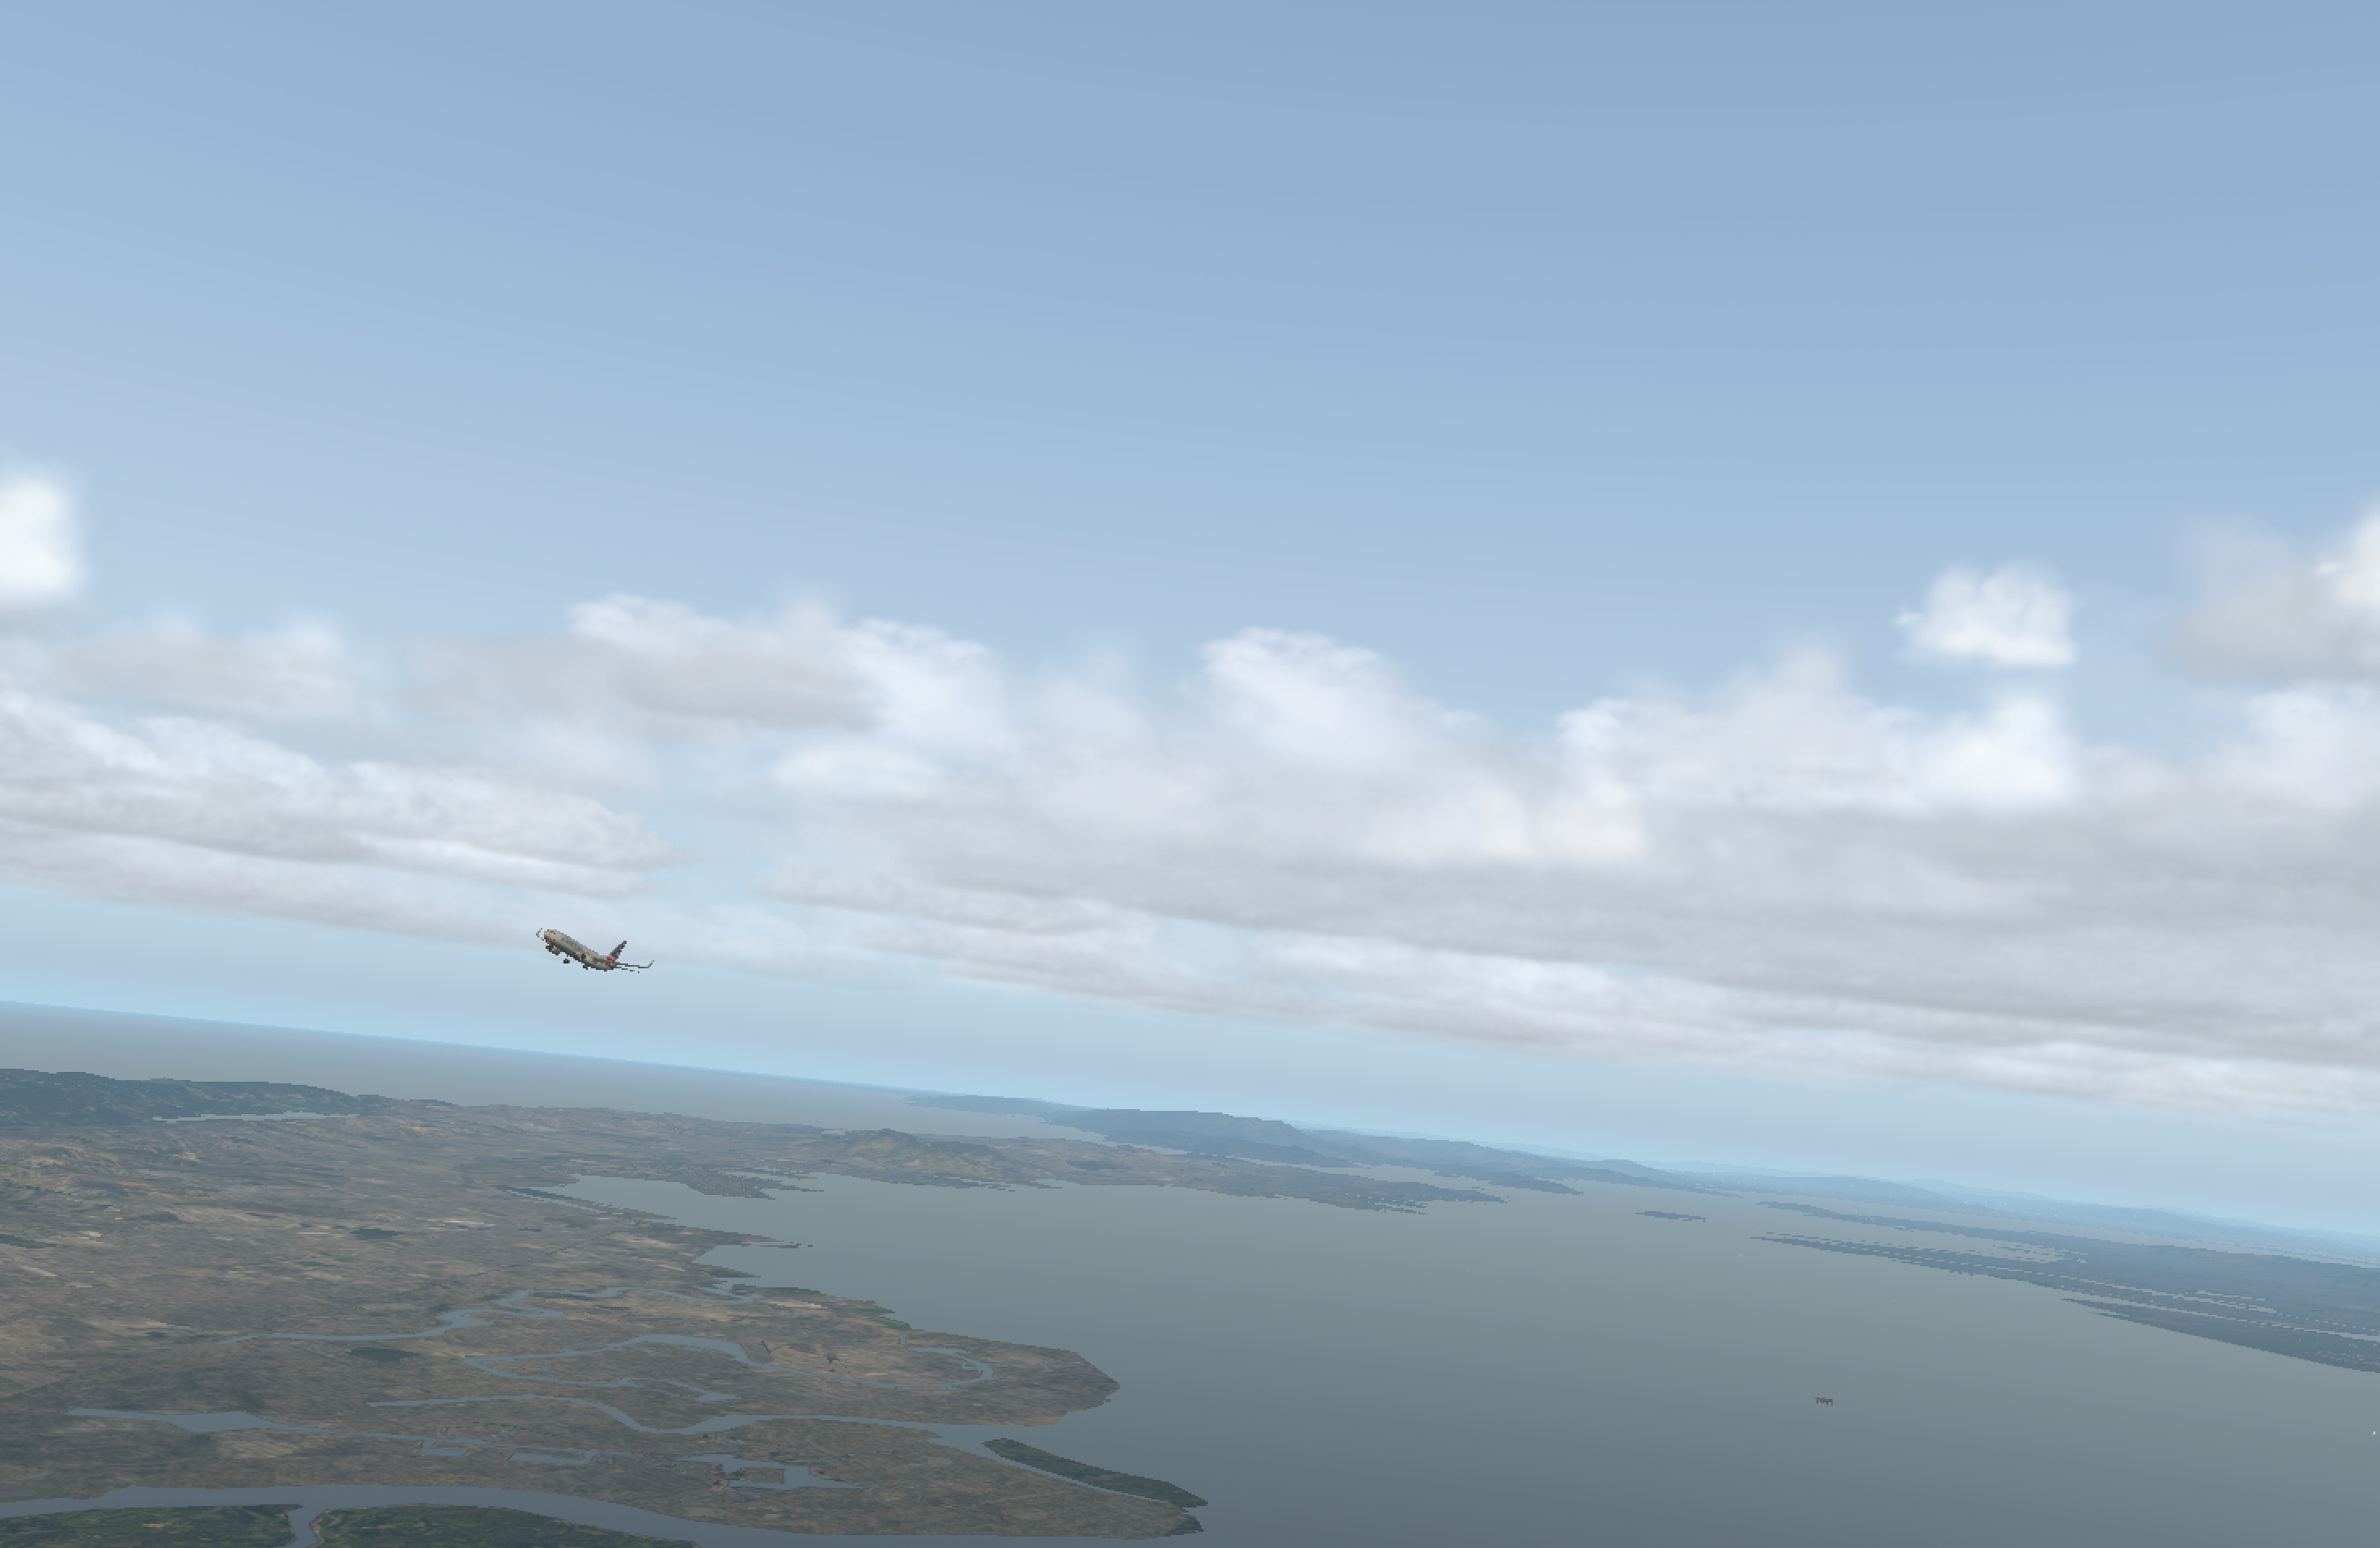aircraft: (505, 927, 651, 981)
